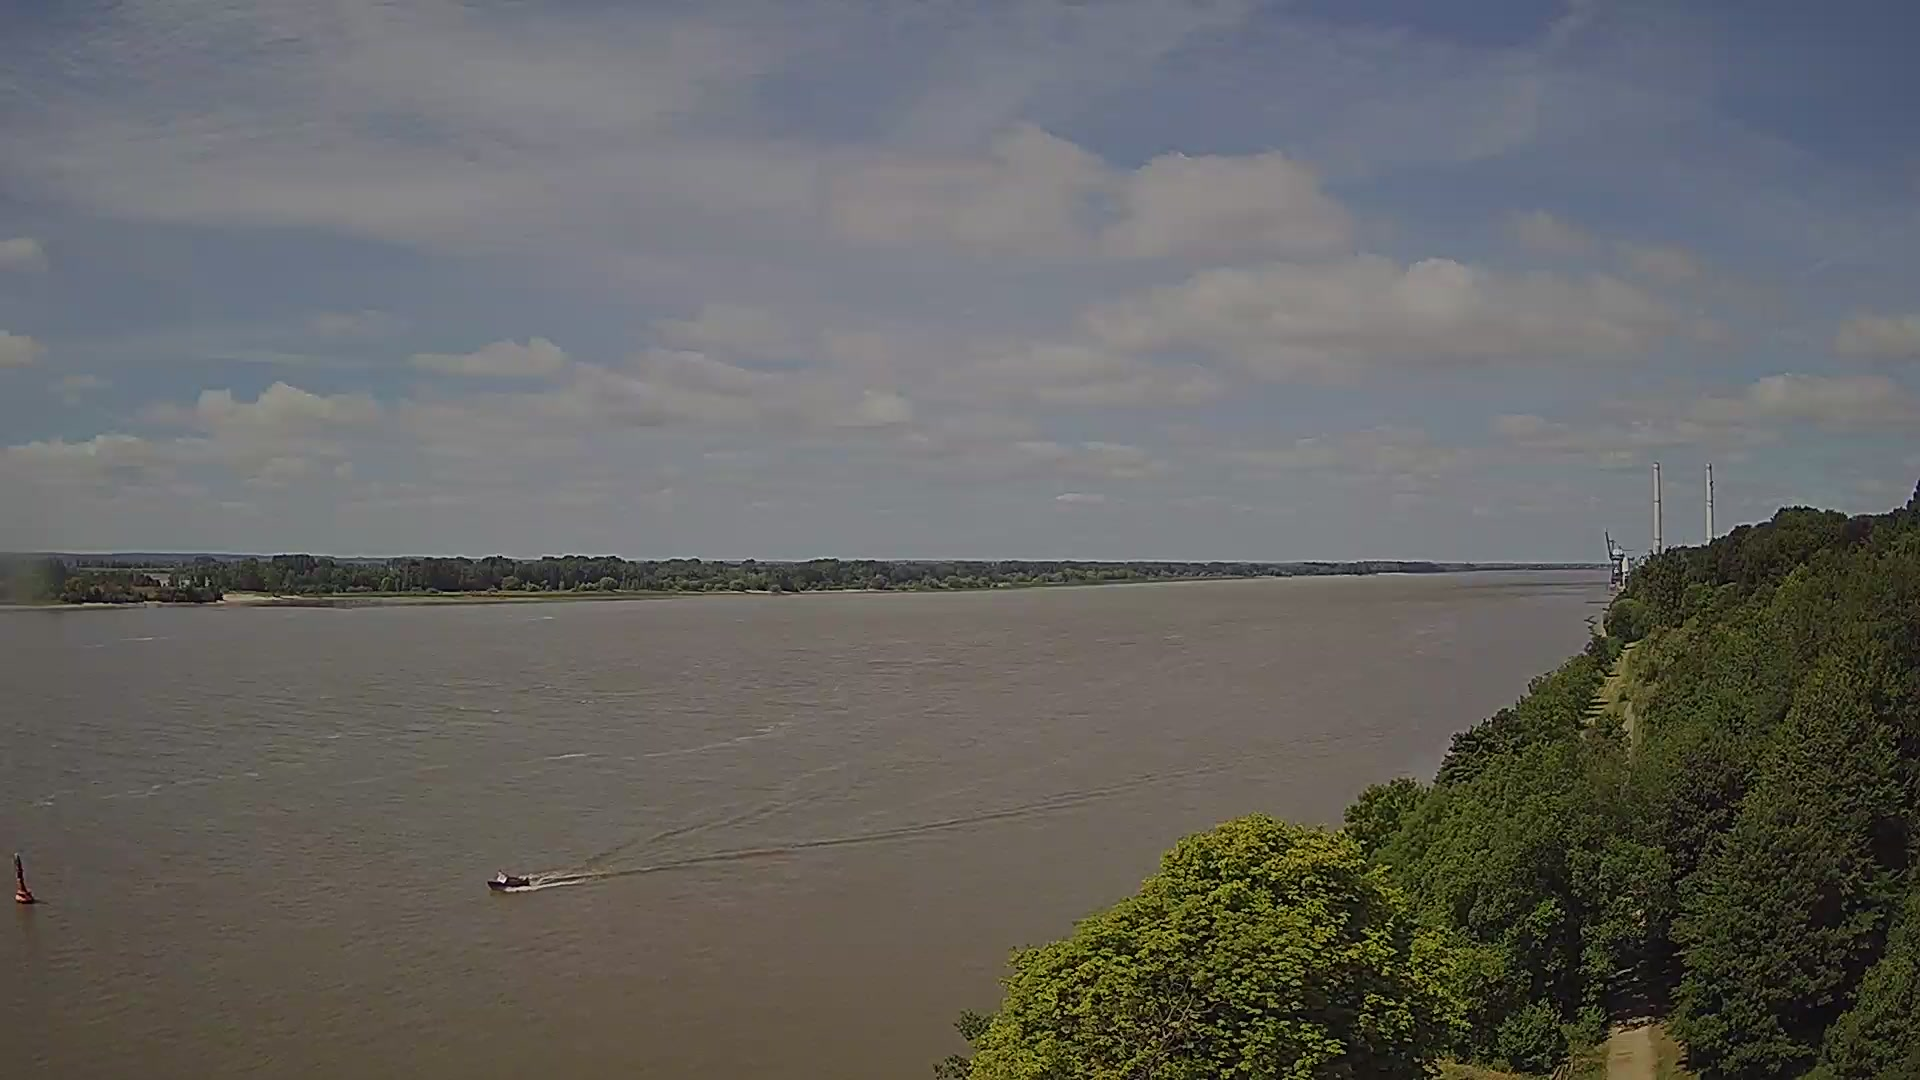sea: (487, 866, 530, 890)
